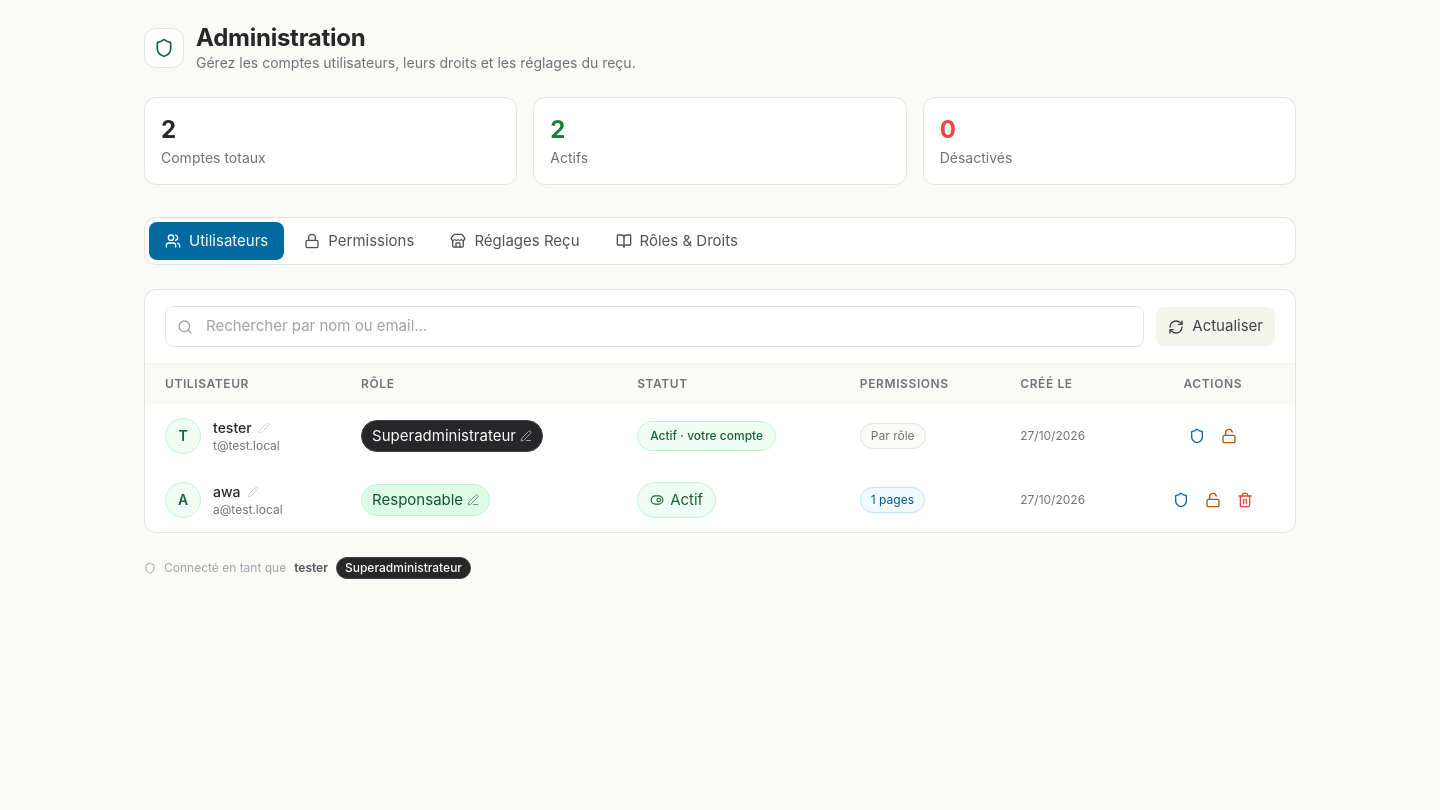
Administration: a role change is confirmed first; cancelling changes nothing
The image size is (1440, 810).
The same role names as the navigation (config/roles.ts).
Click the button "Responsable" at (426, 500), box [361,484,490,516]
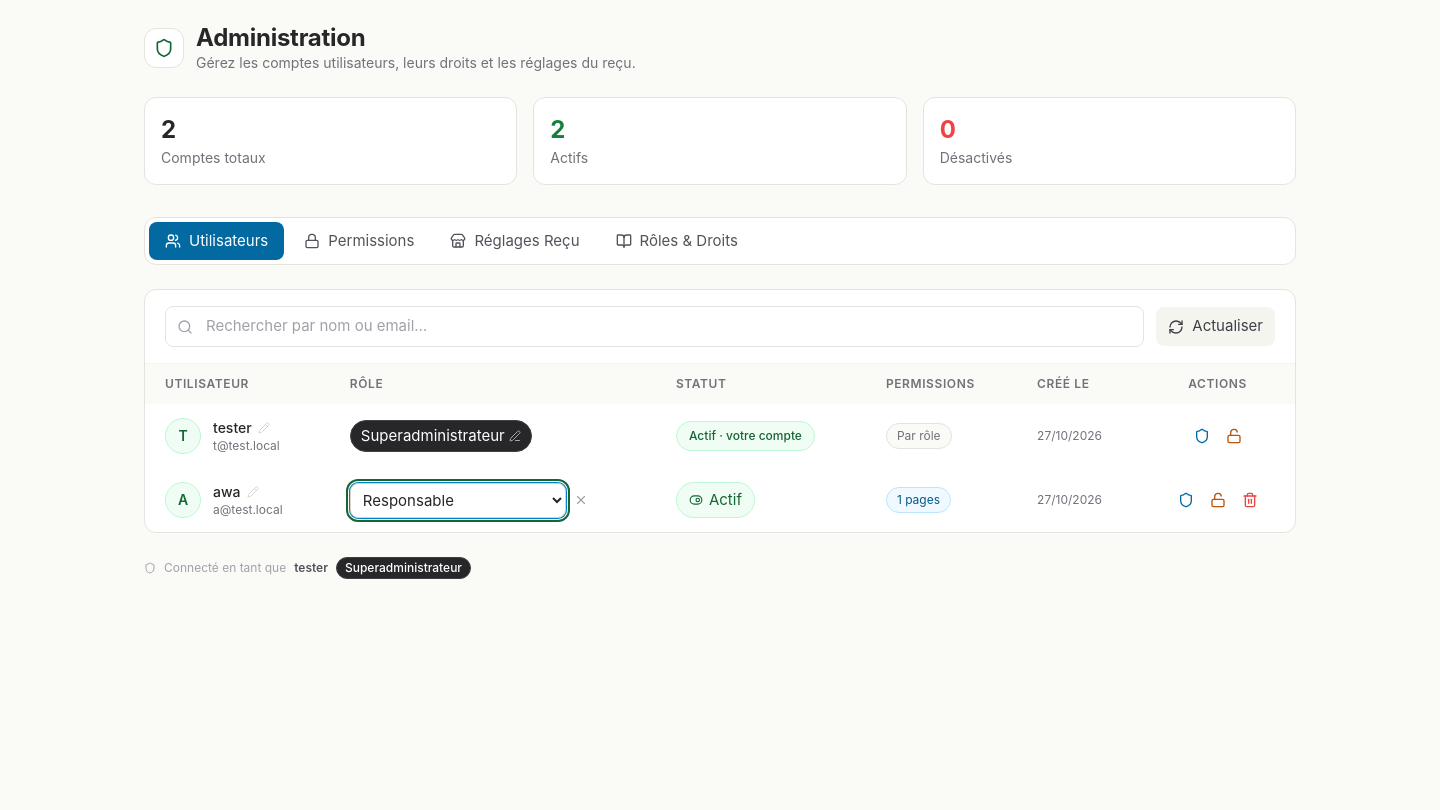
Select "Gestionnaire de stock" in the dropdown named "Changer le rôle" at (458, 500), box [350,482,566,518]
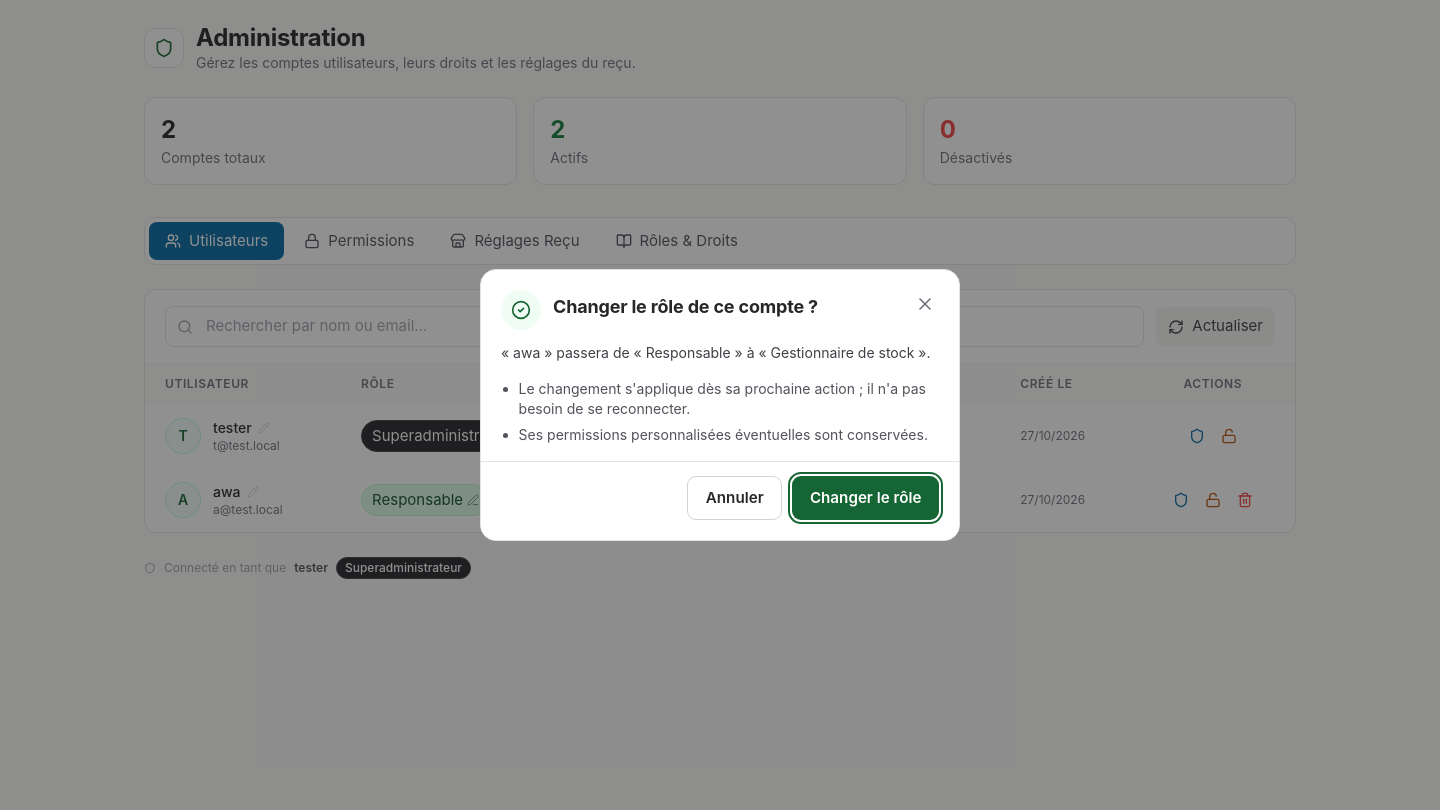
expect the dialog "Changer le rôle de ce compte ?" shows "« awa » passera de « Responsable » à « Gestionnaire de stock ».": met, box [501,344,930,361]
Click the button "Annuler" at (735, 498), box [687,476,782,520]
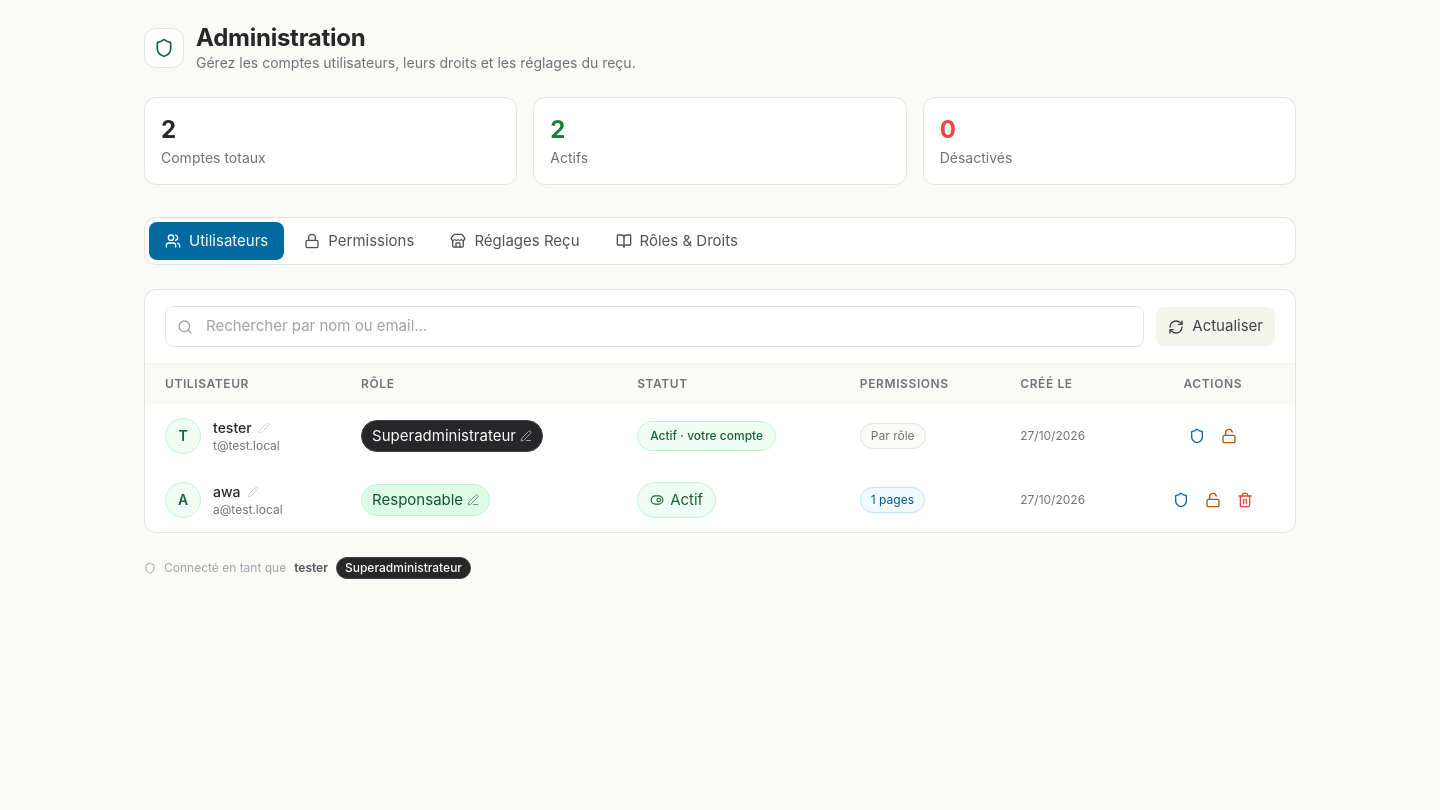
expect the button "Responsable" is shown: met
Click the button "Responsable" at (426, 500), box [361,484,490,516]
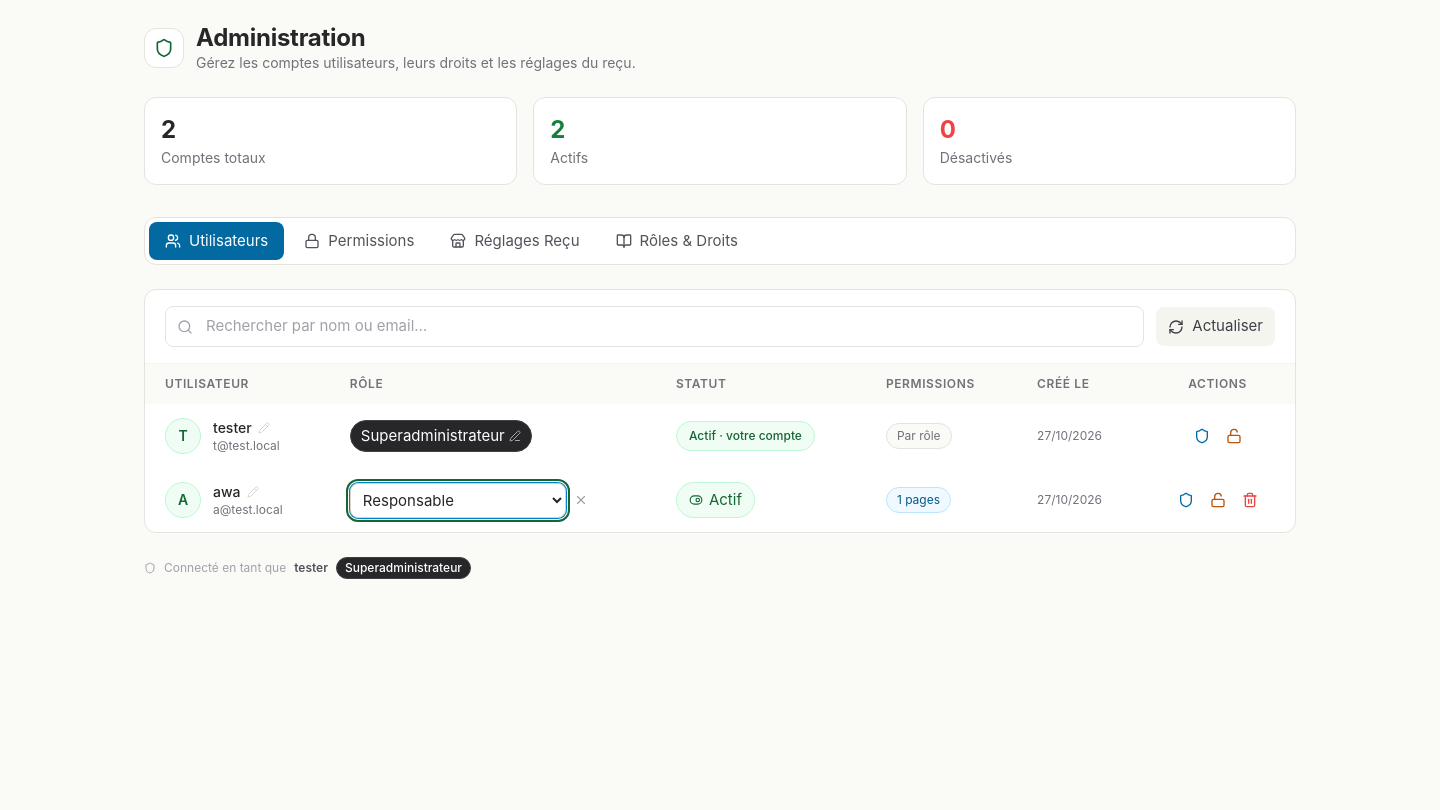
Select "Gestionnaire de stock" in the dropdown named "Changer le rôle" at (458, 500), box [350,482,566,518]
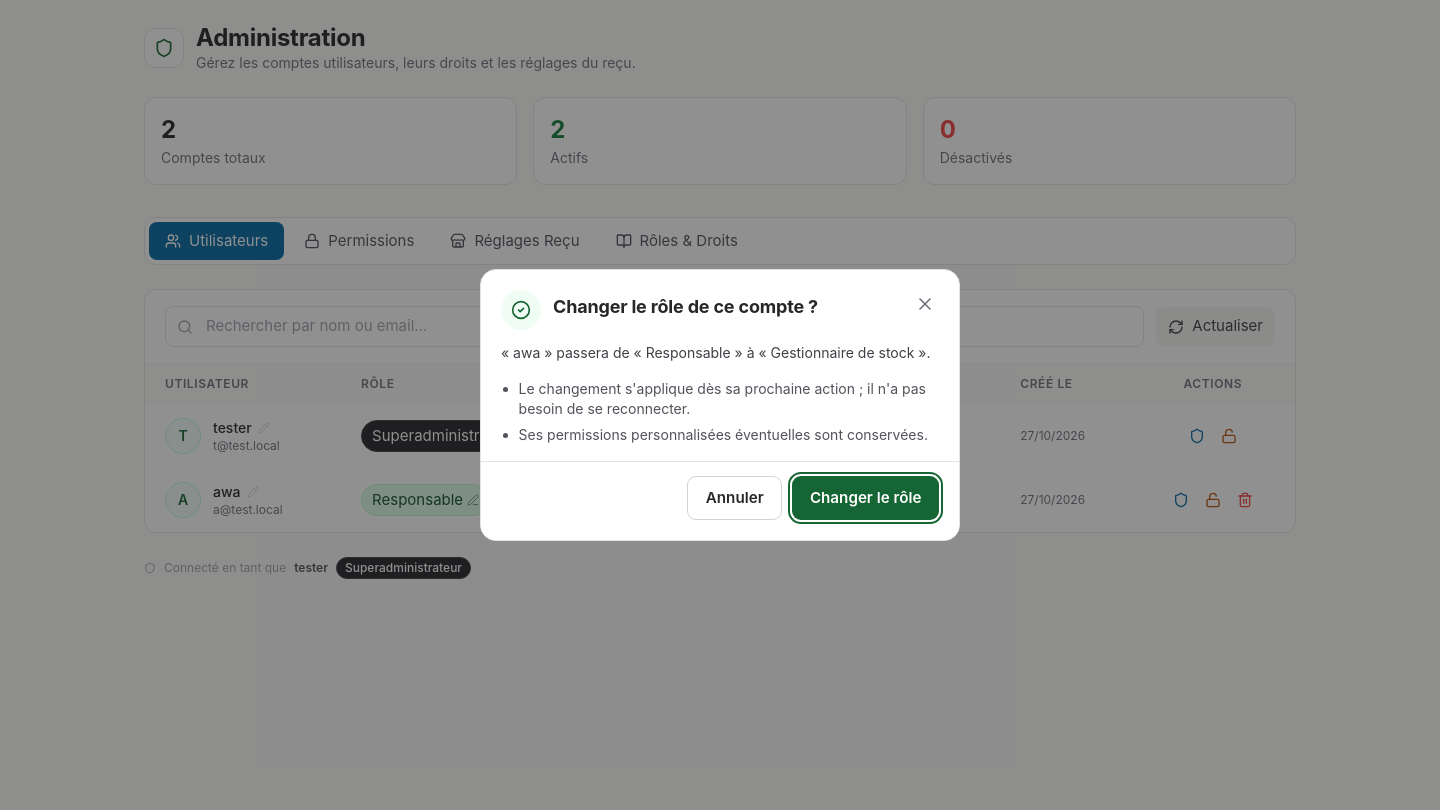
Click the button "Changer le rôle" at (866, 498), box [792,476,939,520]
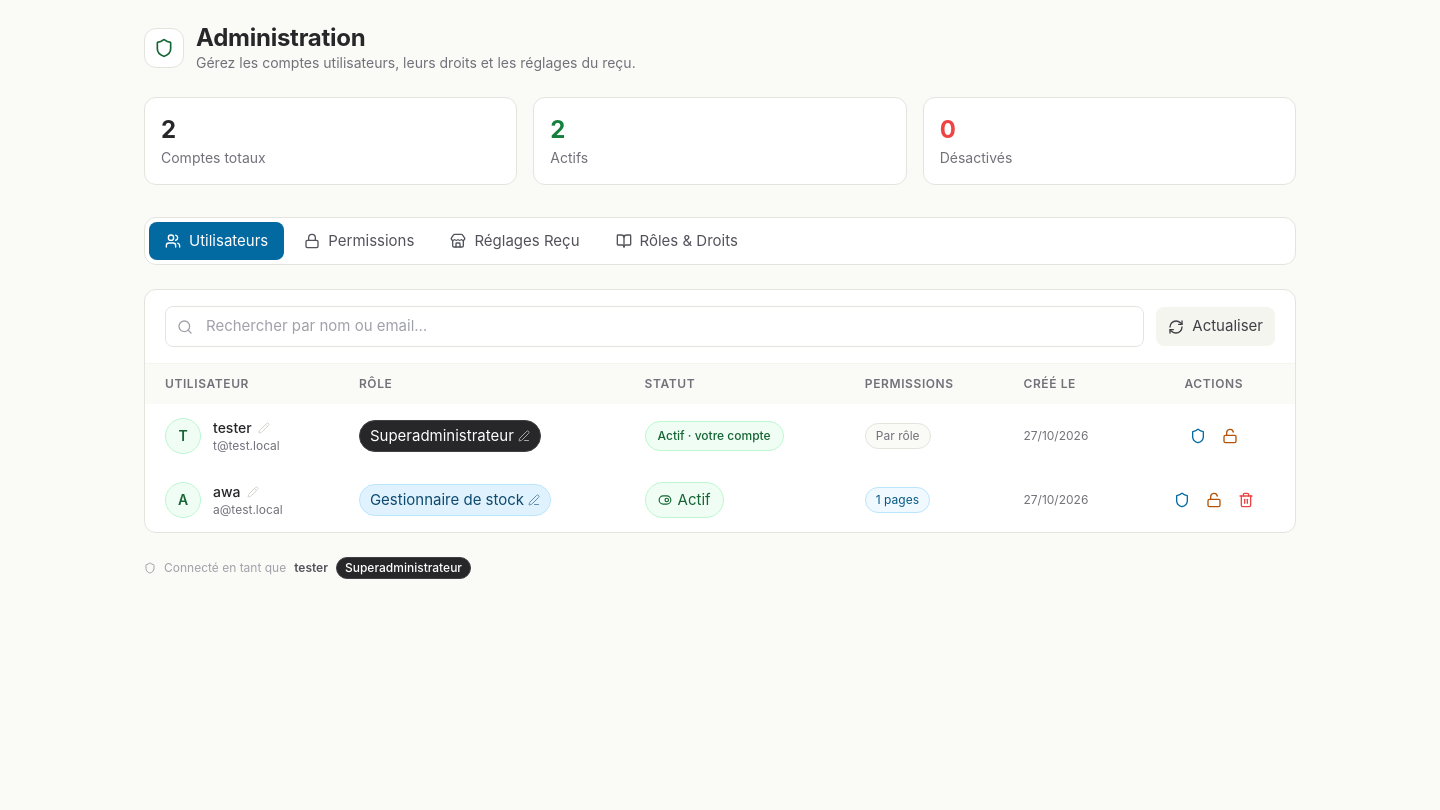
expect the dialog is gone: met
expect the button "Gestionnaire de stock" is shown: met, box [359,484,551,516]
